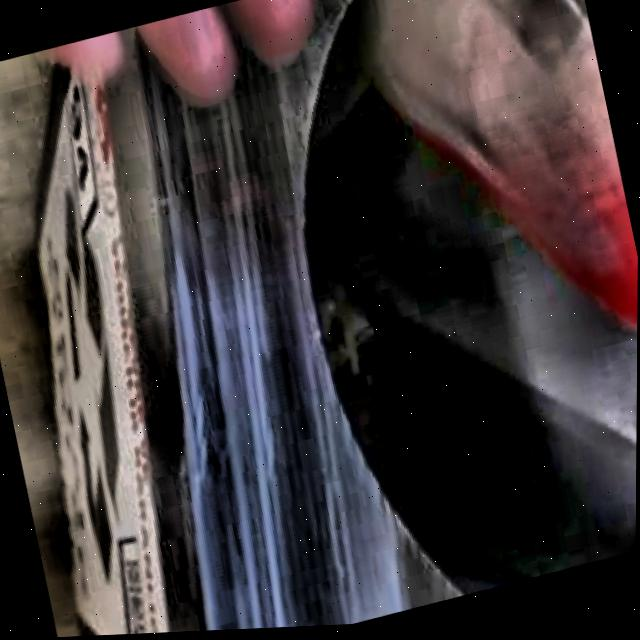metal: (352, 0, 638, 327)
